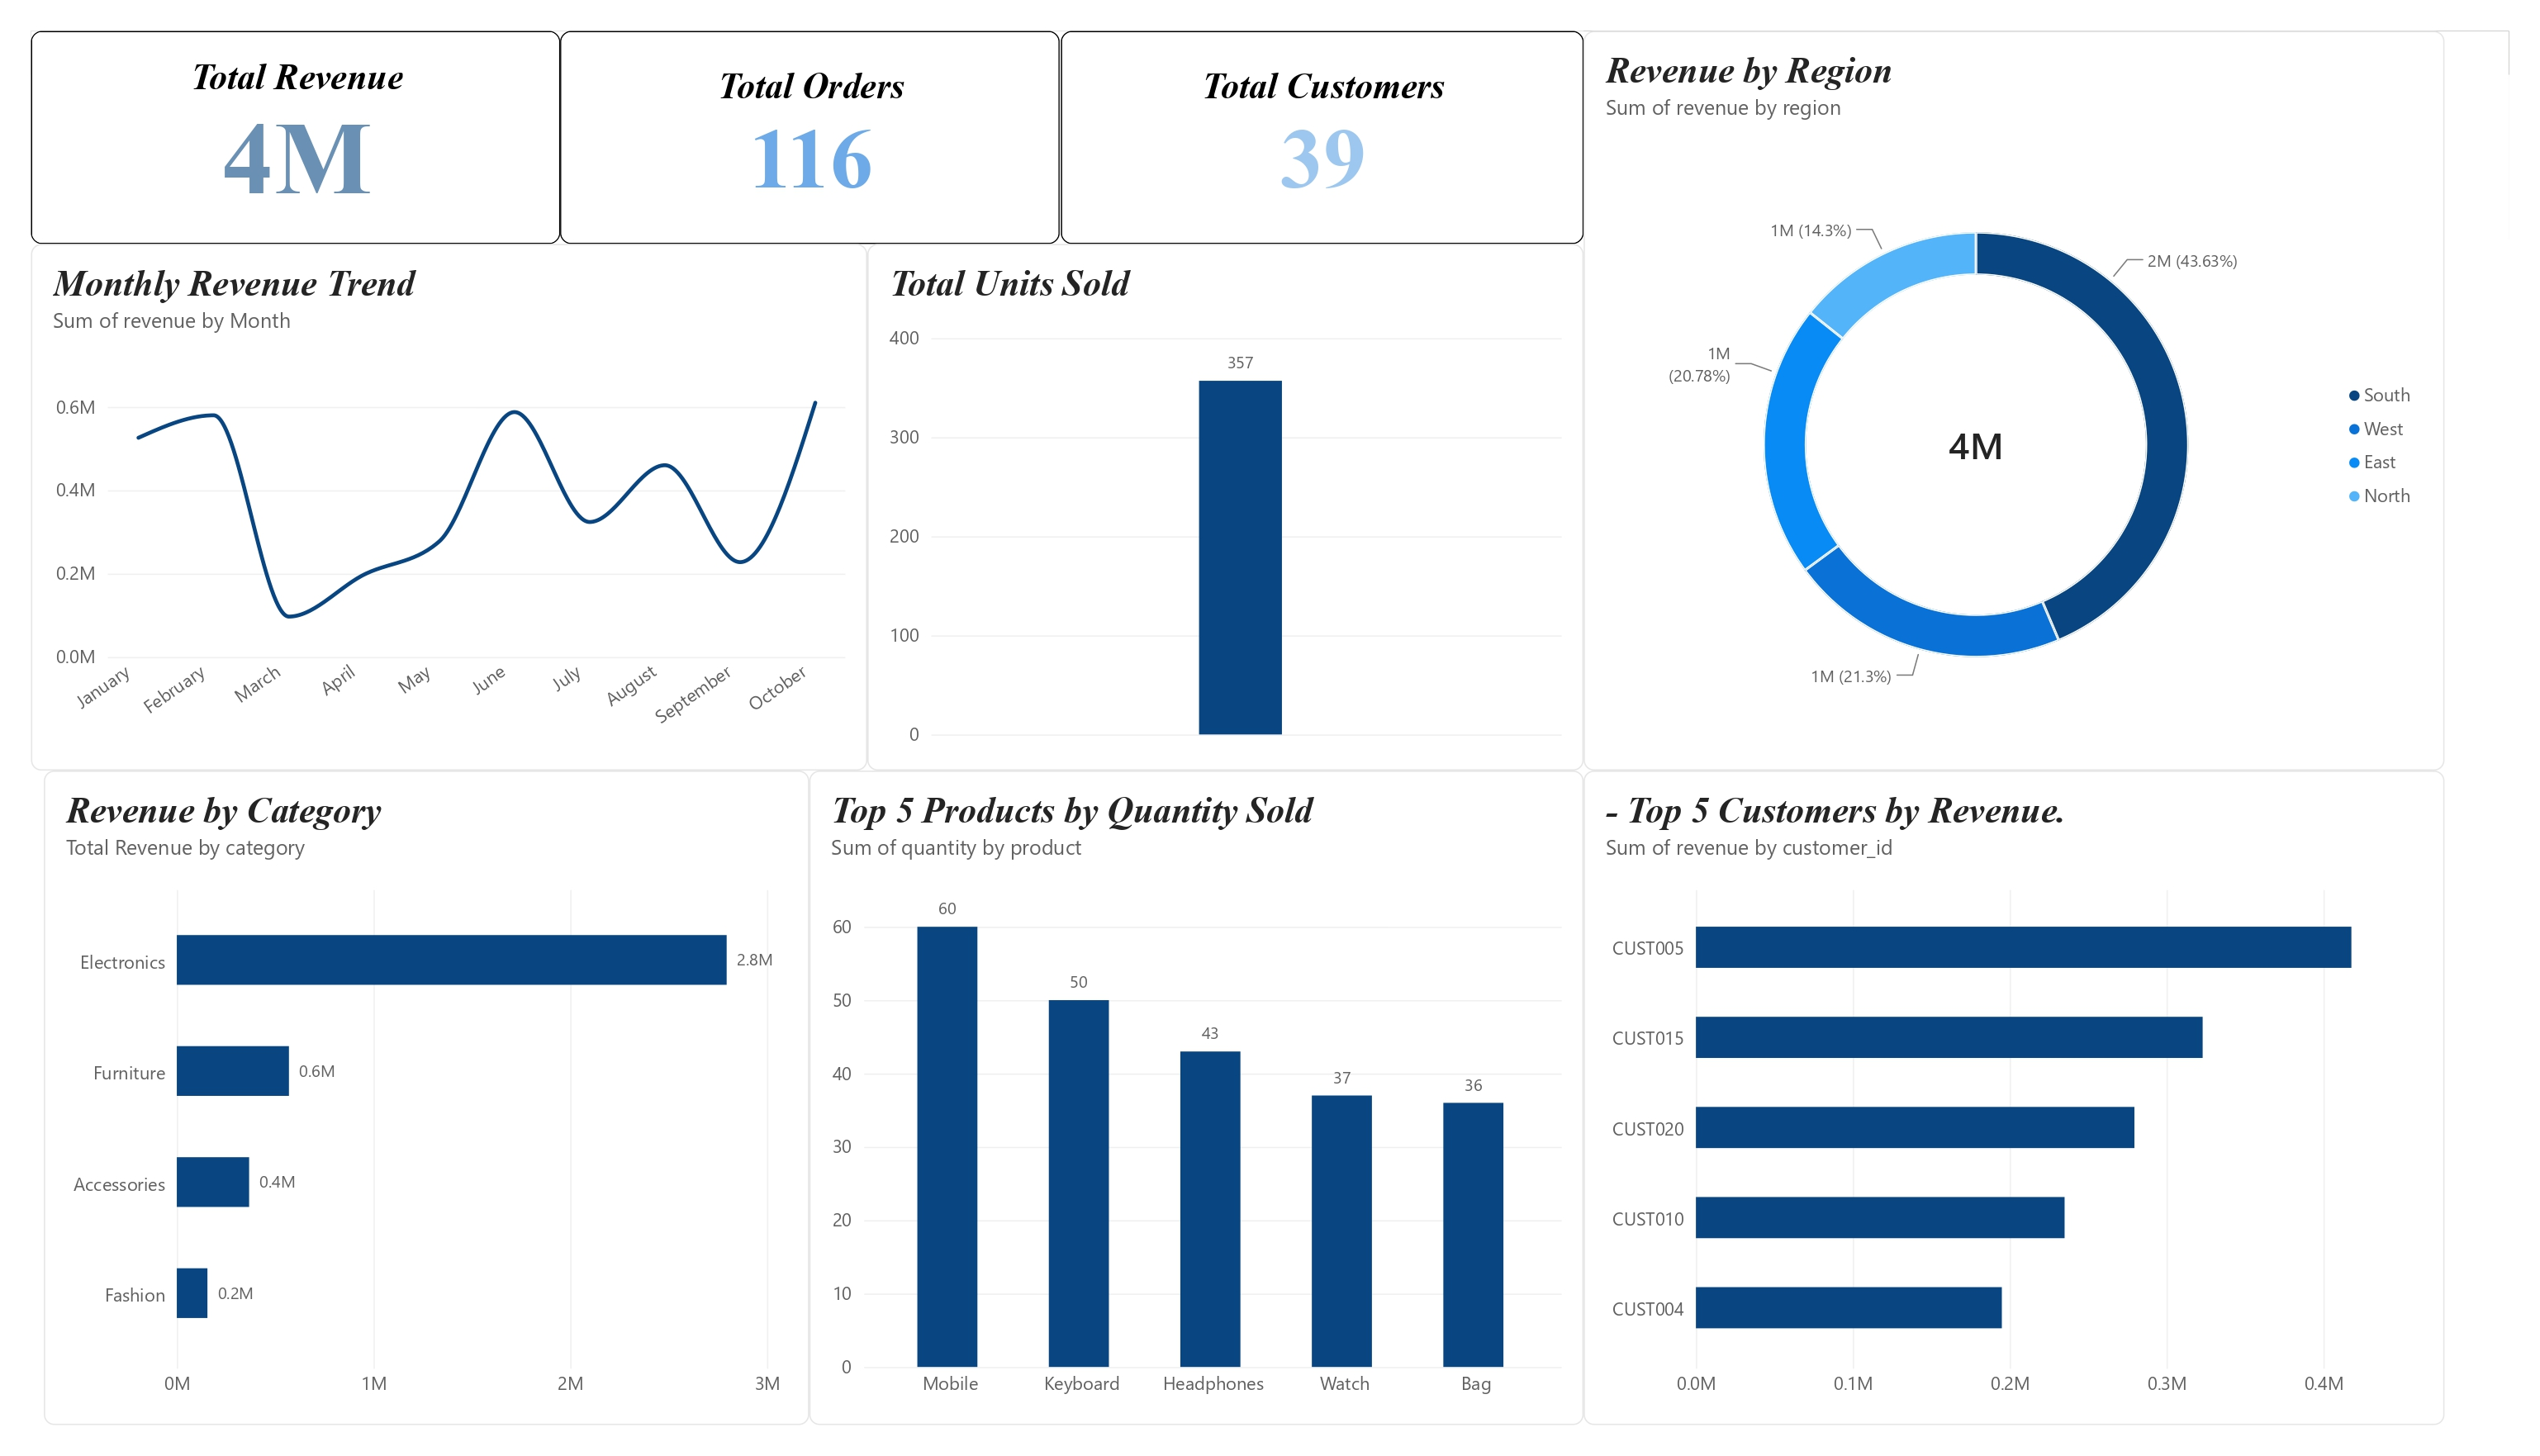

The page's visual inventory and layout, read from the dashboard file:
{"tool":"powerbi","page":{"name":"Page 1","canvas":[1920,1080],"ordinal":0},"visuals":[{"type":"cardVisual","fields":{"Data":["clean_sales.Total Revenue"]},"box":[0,0,410,165],"z":0},{"type":"cardVisual","fields":{"Data":["clean_sales.Total Orders"]},"box":[410,0,387.5,165],"z":1000},{"type":"cardVisual","fields":{"Data":["clean_sales.Total Customers"]},"box":[797.5,0,405,165],"z":2000},{"type":"clusteredBarChart","title":"Revenue by Category","fields":{"Category":["clean_sales.category"],"Y":["clean_sales.Total Revenue"]},"box":[10,572.5,592.5,507.5],"z":3000},{"type":"columnChart","title":"Top 5 Products by Quantity Sold","fields":{"Category":["clean_sales.product"],"Y":["Sum(clean_sales.quantity)"]},"box":[602.5,572.5,600,507.5],"z":4000},{"type":"lineChart","title":"Monthly Revenue Trend","fields":{"Category":["clean_sales.order_date.Variation.Date Hierarchy.Month"],"Y":["Sum(clean_sales.revenue)"]},"box":[0,165,647.5,407.5],"z":5000},{"type":"donutChart","title":"Revenue by Region","fields":{"Category":["clean_sales.region"],"Y":["Sum(clean_sales.revenue)"]},"box":[1202.5,0,667.5,572.5],"z":6000},{"type":"clusteredBarChart","title":"- Top 5 Customers by Revenue.","fields":{"Category":["clean_sales.customer_id"],"Y":["Sum(clean_sales.revenue)"]},"box":[1202.5,572.5,667.5,507.5],"z":7000},{"type":"clusteredColumnChart","fields":{"Y":["clean_sales.Total Units Sold"]},"box":[647.5,165,555,407.5],"z":8000}]}

Visuals, with their boxes on the page's 1920x1080 design canvas (x1, y1, x2, y2). These are canvas units, not pixel positions in the 2540x1456 screenshot, which may show the page scaled, cropped or inside an application window:
cardVisual - clean_sales.Total Revenue: {"left": 0, "top": 0, "right": 410, "bottom": 165}
cardVisual - clean_sales.Total Orders: {"left": 410, "top": 0, "right": 798, "bottom": 165}
cardVisual - clean_sales.Total Customers: {"left": 798, "top": 0, "right": 1202, "bottom": 165}
"Revenue by Category" clusteredBarChart: {"left": 10, "top": 572, "right": 602, "bottom": 1080}
"Top 5 Products by Quantity Sold" columnChart: {"left": 602, "top": 572, "right": 1202, "bottom": 1080}
"Monthly Revenue Trend" lineChart: {"left": 0, "top": 165, "right": 648, "bottom": 572}
"Revenue by Region" donutChart: {"left": 1202, "top": 0, "right": 1870, "bottom": 572}
"- Top 5 Customers by Revenue." clusteredBarChart: {"left": 1202, "top": 572, "right": 1870, "bottom": 1080}
clusteredColumnChart - clean_sales.Total Units Sold: {"left": 648, "top": 165, "right": 1202, "bottom": 572}
